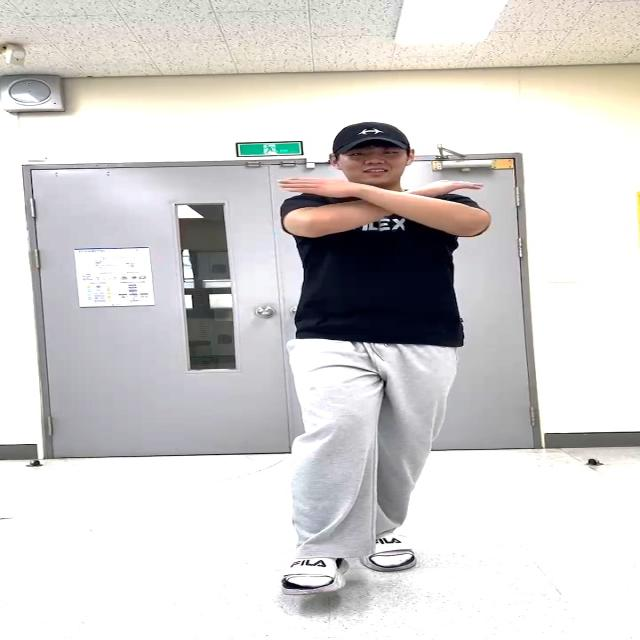leg: (283, 346, 367, 594)
